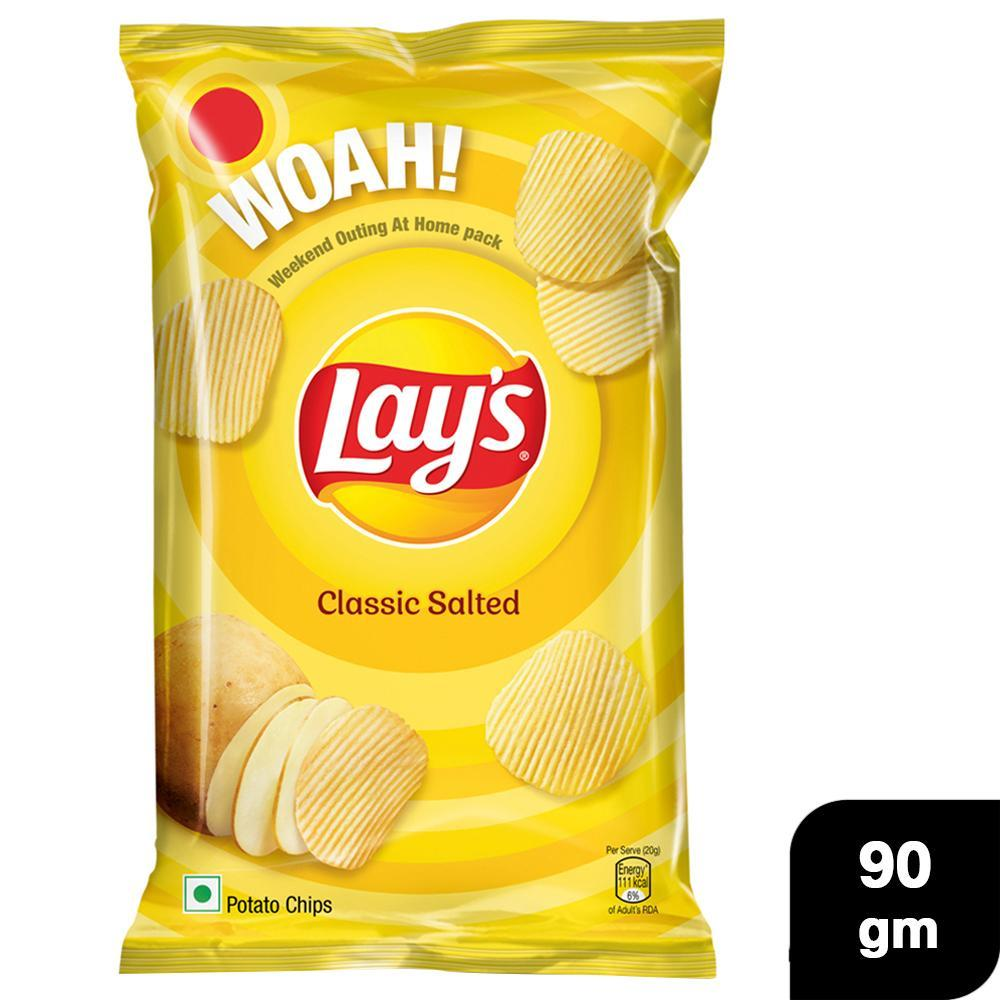Lays: (110, 13, 728, 982)
